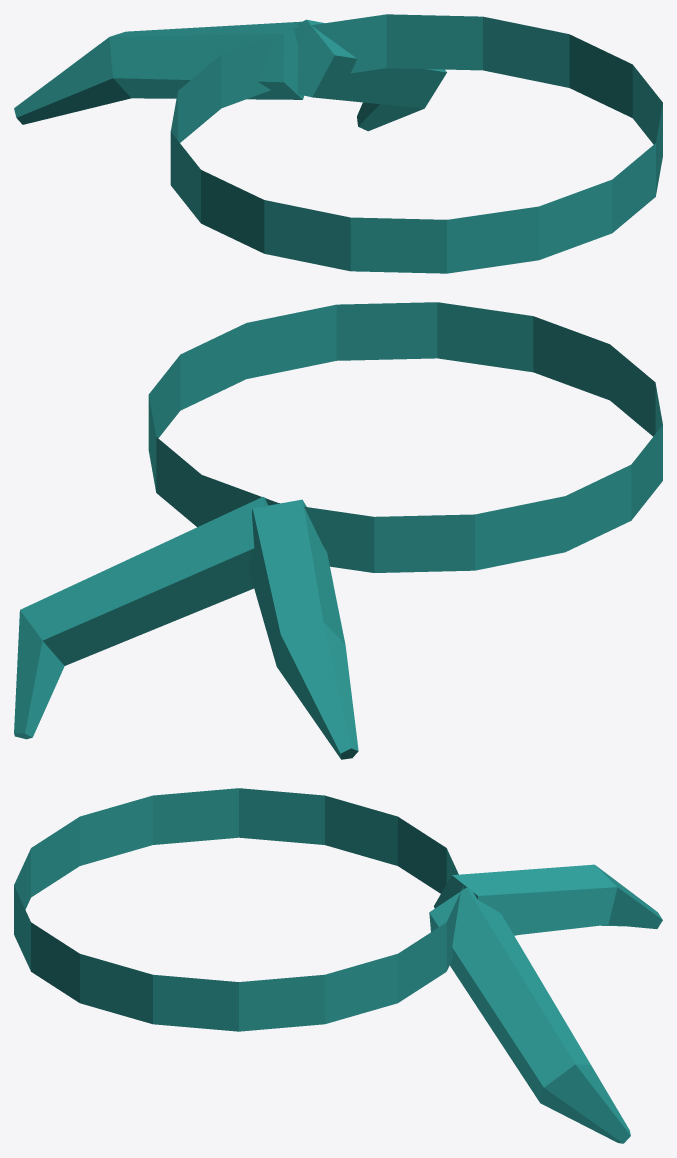
File: headband.glb
The picture shows the model from 3 angles, top to bottom: view 1: azimuth 30°, elevation 25°; view 2: azimuth 150°, elevation 25°; view 3: azimuth 270°, elevation 25°; orthographic projection. The views are drawn at different scales.
Visible parts, largest first — view 1: headband; view 2: headband; view 3: headband.
Boxes of the visible parts, x1=… form: headband: x1=14, y1=14, x2=662, y2=273; headband: x1=14, y1=302, x2=662, y2=759; headband: x1=14, y1=788, x2=662, y2=1143.
Size of the model in its own units: 0.302 by 0.1385 by 0.4271.
